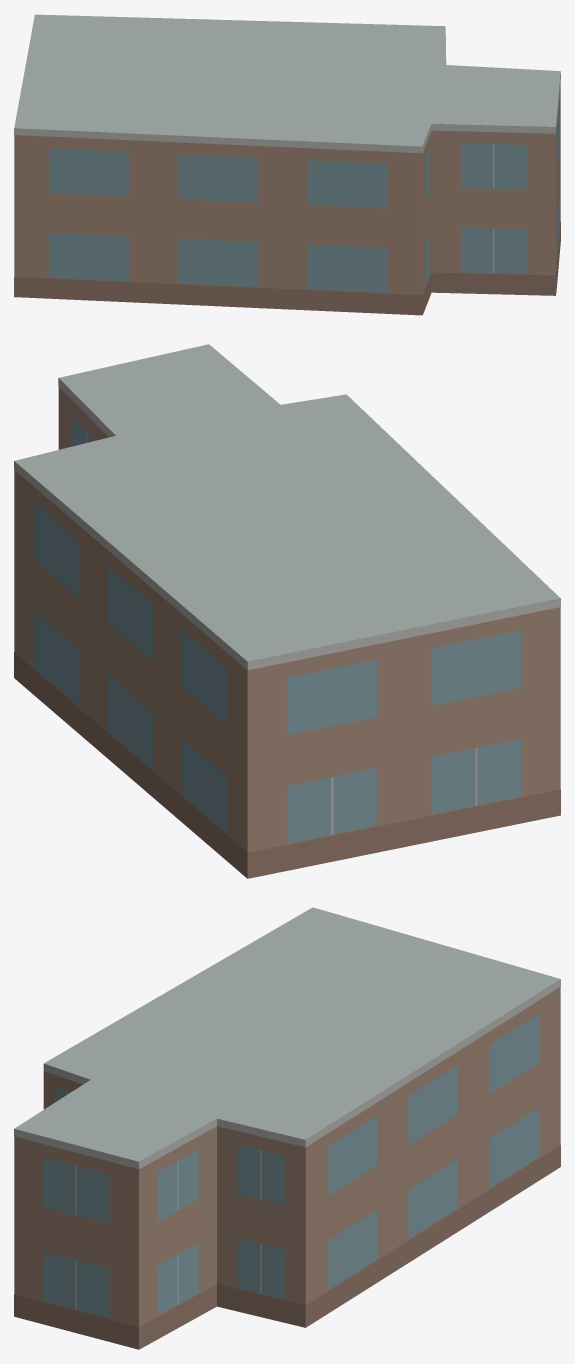
Rendered from survey-upis-32912181.glb.
3 views of the same model, one above another, from view 1: azimuth 30°, elevation 25°; view 2: azimuth 150°, elevation 25°; view 3: azimuth 270°, elevation 25° (orthographic). The views are drawn at different scales.
Visible parts, largest first — view 1: survey-upis-32912181.tmp; view 2: survey-upis-32912181.tmp; view 3: survey-upis-32912181.tmp.
Boxes of the visible parts, x1=… form: survey-upis-32912181.tmp: x1=14, y1=14, x2=560, y2=315; survey-upis-32912181.tmp: x1=14, y1=344, x2=560, y2=878; survey-upis-32912181.tmp: x1=14, y1=907, x2=560, y2=1349.
Size of the model in its own units: 17.73 by 6.1 by 16.1.
